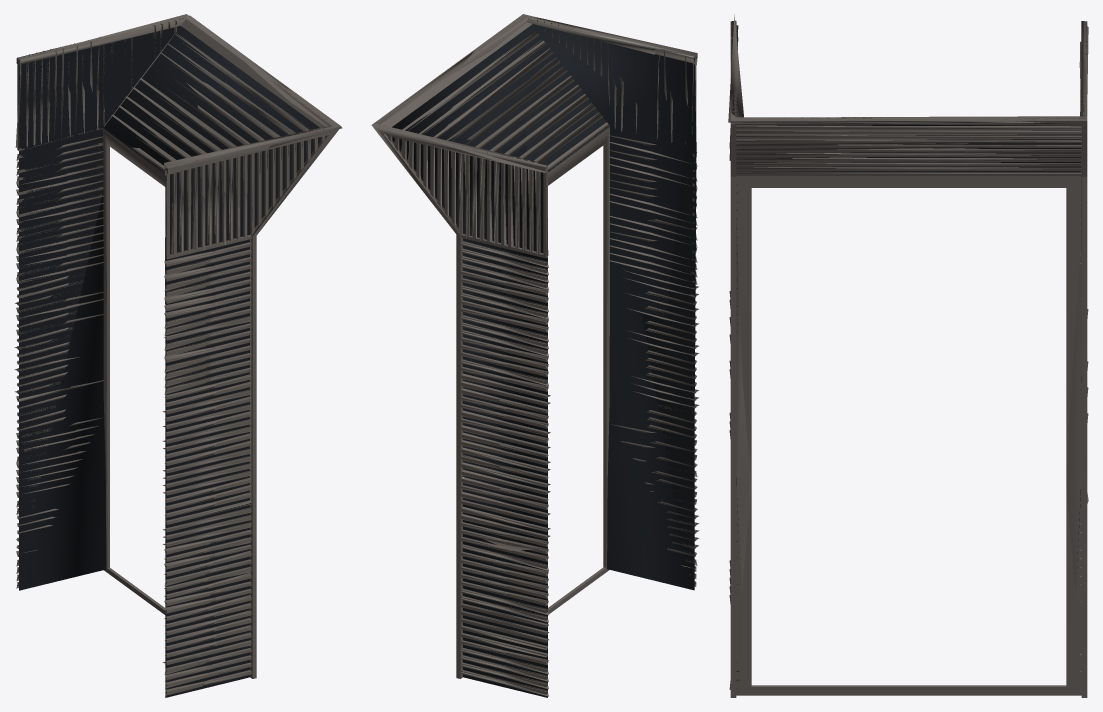
The model's file is sm_cb01_module14.glb.
3 renders of one model, left to right at view 1: azimuth 30°, elevation 25°; view 2: azimuth 150°, elevation 25°; view 3: azimuth 270°, elevation 25°, orthographic. The views are drawn at different scales.
Parts seen in each view (by area): view 1: sm_cb01_module14_00; view 2: sm_cb01_module14_00; view 3: sm_cb01_module14_00.
Part boxes in pixels (x1,y1,x2,y2): sm_cb01_module14_00: (14,14,342,697); sm_cb01_module14_00: (371,14,699,697); sm_cb01_module14_00: (728,14,1088,697).
Bounding box in the file's own units: 6.25 × 18.17 × 9.4.
3 materials, 2 textured.
